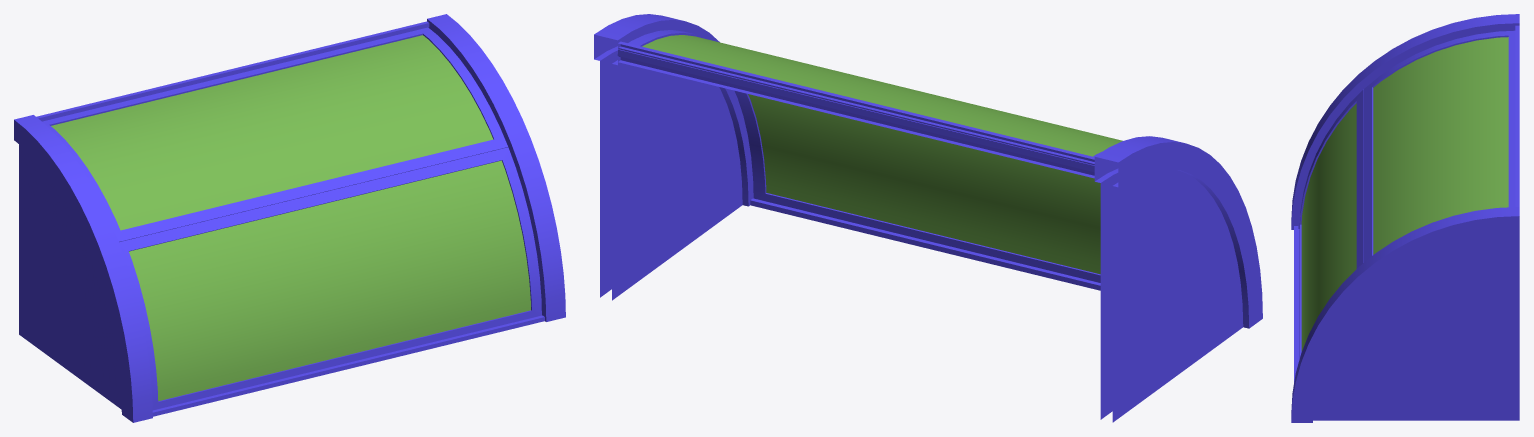
Rendered from GlassSealedDoor_01.FBX.
3 views of the same model, side by side, from view 1: azimuth 30°, elevation 25°; view 2: azimuth 150°, elevation 25°; view 3: azimuth 270°, elevation 25° (orthographic). The views are drawn at different scales.
Parts seen in each view (by area): view 1: GlassSealedDoor_01_LowerDoor, GlassSealedDoor_01_UpperDoor, GlassSealedDoor_01; view 2: GlassSealedDoor_01, GlassSealedDoor_01_LowerDoor, GlassSealedDoor_01_UpperDoor; view 3: GlassSealedDoor_01, GlassSealedDoor_01_UpperDoor, GlassSealedDoor_01_LowerDoor.
Part boxes in pixels (left/top/right/bottom): GlassSealedDoor_01_LowerDoor: left=119, top=147, right=541, bottom=410; GlassSealedDoor_01_UpperDoor: left=42, top=27, right=507, bottom=241; GlassSealedDoor_01: left=14, top=14, right=565, bottom=422; GlassSealedDoor_01: left=594, top=14, right=1262, bottom=422; GlassSealedDoor_01_LowerDoor: left=734, top=90, right=1100, bottom=282; GlassSealedDoor_01_UpperDoor: left=617, top=30, right=1122, bottom=172; GlassSealedDoor_01: left=1291, top=14, right=1519, bottom=422; GlassSealedDoor_01_UpperDoor: left=1364, top=30, right=1515, bottom=262; GlassSealedDoor_01_LowerDoor: left=1299, top=89, right=1363, bottom=357.
Bounding box in the file's own units: 8.8 × 4.2 × 4.2.
